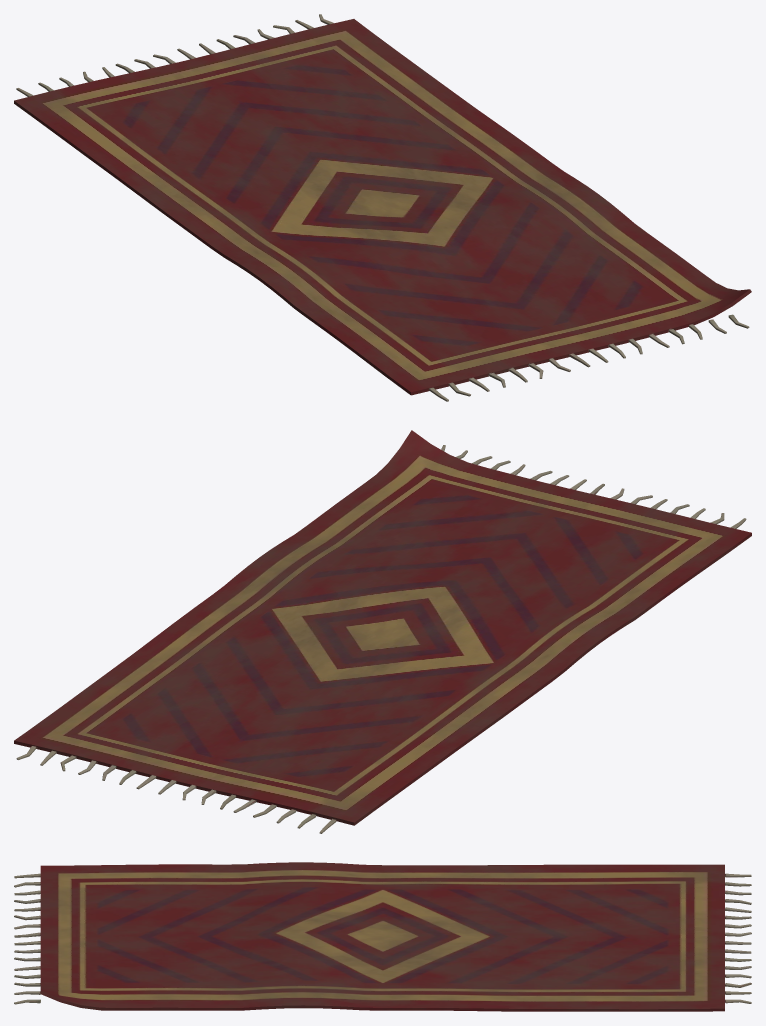
File: rug.glb
3 views of the same model, one above another, from view 1: azimuth 30°, elevation 25°; view 2: azimuth 150°, elevation 25°; view 3: azimuth 270°, elevation 25° (orthographic). The views are drawn at different scales.
Visible parts, largest first — view 1: rug; view 2: rug; view 3: rug.
Part boxes in pixels (x1,y1,x2,y2): rug: (14, 14, 751, 401); rug: (14, 430, 751, 833); rug: (14, 862, 751, 1011).
Size of the model in its own units: 0.9017 by 0.0598 by 1.96.
1 material, 1 textured.
